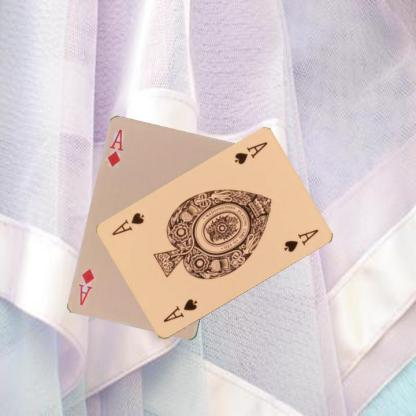Ad: (105, 127, 125, 168)
As: (160, 297, 199, 324), (232, 140, 268, 166)
